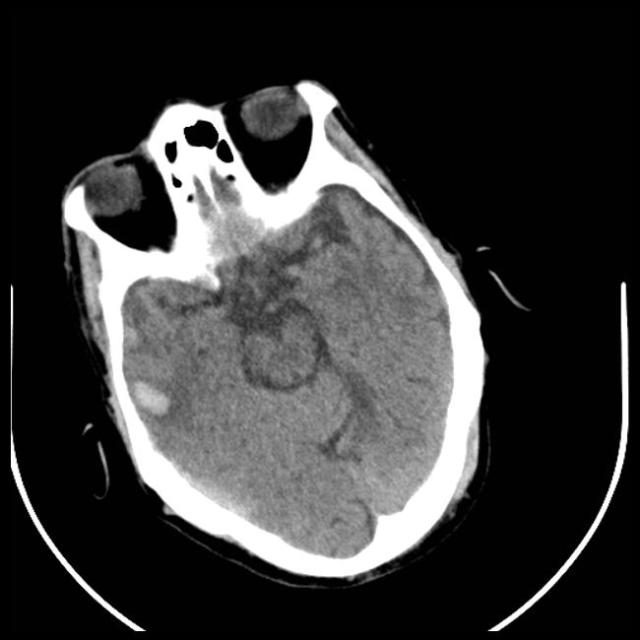lesion: (105, 327, 215, 451)
